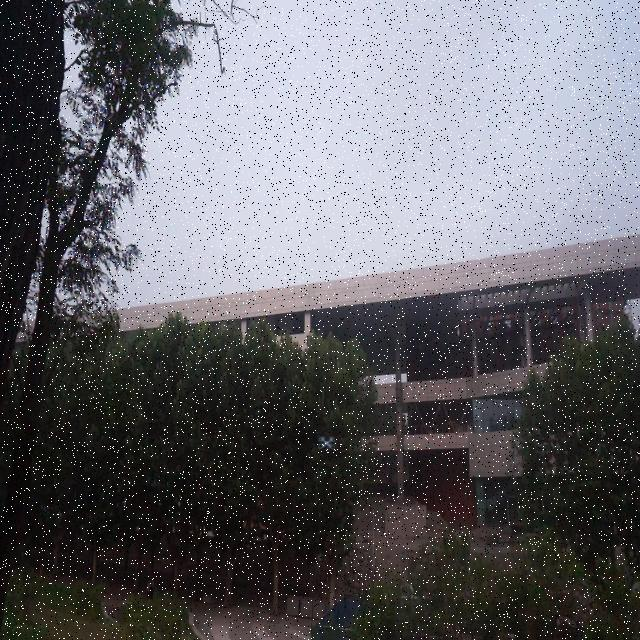UAV: (318, 437, 335, 450)
